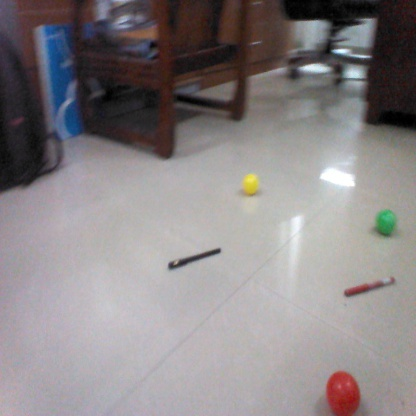ball: (329, 371, 360, 416), (375, 210, 401, 238), (241, 172, 260, 196)
pen: (345, 274, 399, 296), (169, 248, 222, 269)
